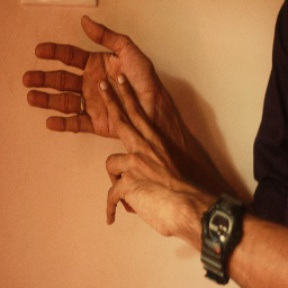N: (19, 11, 183, 215)
